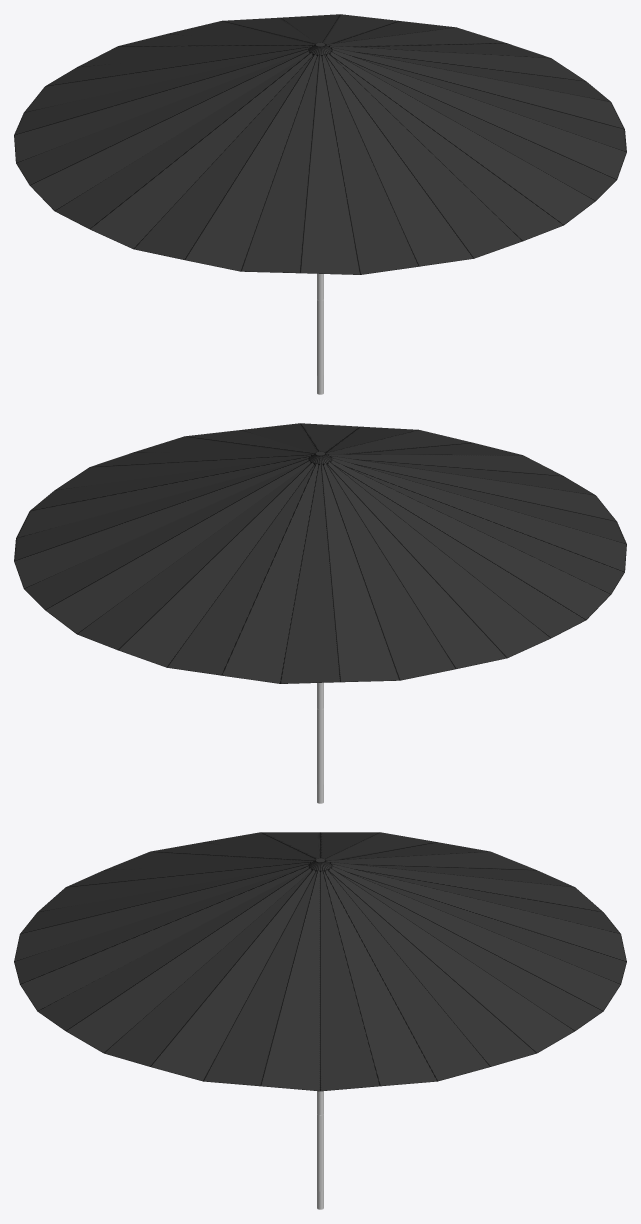
The model's file is Kasa.fbx.
3 views of the same model, one above another, from view 1: azimuth 30°, elevation 25°; view 2: azimuth 150°, elevation 25°; view 3: azimuth 270°, elevation 25° (orthographic).
Parts seen in each view (by area): view 1: 円, 円柱.001; view 2: 円, 円柱.001; view 3: 円, 円柱.001.
Boxes of the visible parts, bbox=[...] form: 円: bbox=[14, 14, 626, 274]; 円柱.001: bbox=[317, 299, 323, 376]; 円: bbox=[14, 423, 626, 683]; 円柱.001: bbox=[317, 708, 323, 785]; 円: bbox=[14, 832, 626, 1091]; 円柱.001: bbox=[317, 1115, 323, 1191].
Bounding box in the file's own units: 2 × 1.25 × 2.
